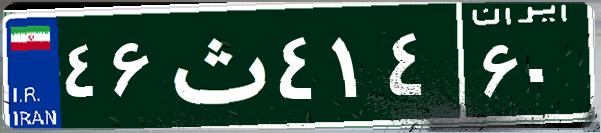0: (525, 38, 570, 115)
1: (330, 28, 385, 110)
4: (385, 28, 445, 110), (273, 28, 330, 110), (57, 26, 110, 107)
6: (475, 38, 525, 113), (110, 28, 158, 105)
ث: (158, 15, 273, 115)
